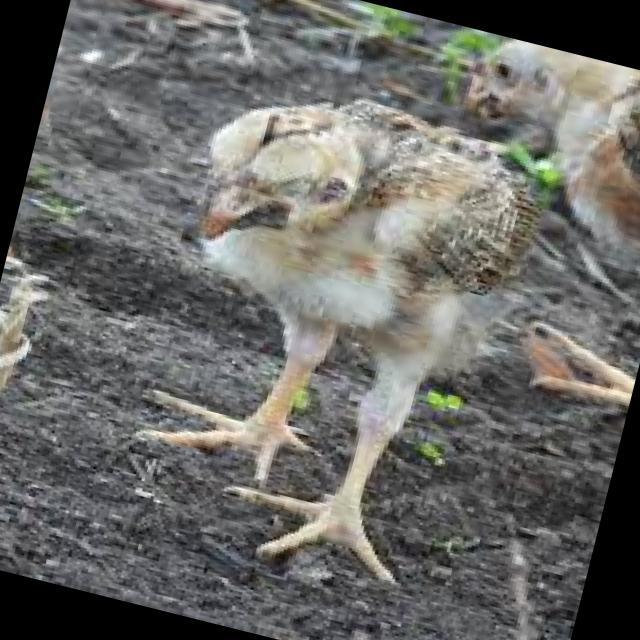Fowlpox: (155, 97, 404, 298)
